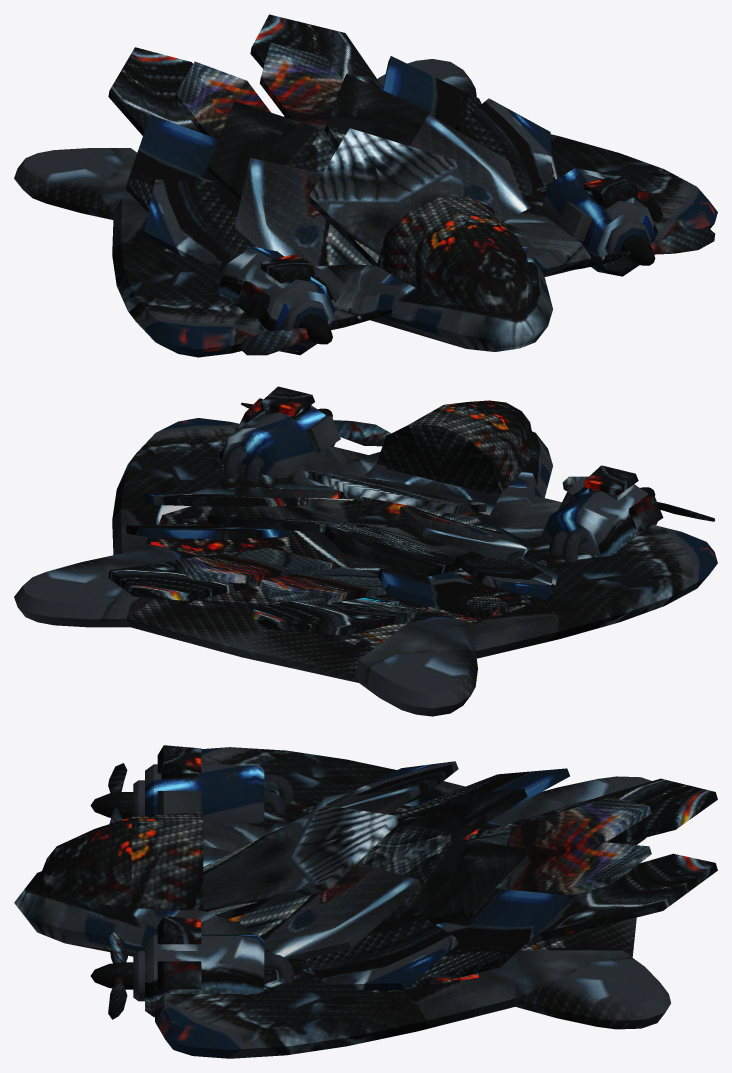
3 renders of one model, top to bottom at view 1: azimuth 30°, elevation 25°; view 2: azimuth 150°, elevation 25°; view 3: azimuth 270°, elevation 25°, orthographic. The views are drawn at different scales.
Visible parts, largest first — view 1: plane_11_4h45min_, plane_11_4h45min__003, plane_11_4h45min__005, plane_11_4h45min__009, plane_11_4h45min__006, plane_11_4h45min__011, plane_11_4h45min__004, plane_11_4h45min__008, plane_11_4h45min__007, plane_11_4h45min__010, plane_11_4h45min__002, plane_11_4h45min__001; view 2: plane_11_4h45min_, plane_11_4h45min__006, plane_11_4h45min__011, plane_11_4h45min__010, plane_11_4h45min__005, plane_11_4h45min__003, plane_11_4h45min__009, plane_11_4h45min__008, plane_11_4h45min__007, plane_11_4h45min__002, plane_11_4h45min__004, plane_11_4h45min__001; view 3: plane_11_4h45min_, plane_11_4h45min__003, plane_11_4h45min__004, plane_11_4h45min__007, plane_11_4h45min__008, plane_11_4h45min__010, plane_11_4h45min__006, plane_11_4h45min__011, plane_11_4h45min__009, plane_11_4h45min__002, plane_11_4h45min__005, plane_11_4h45min__001.
Part boxes in pixels (x1=…): plane_11_4h45min_: x1=14, y1=14, x2=717, y2=357; plane_11_4h45min__003: x1=308, y1=128, x2=467, y2=265; plane_11_4h45min__005: x1=234, y1=158, x2=372, y2=266; plane_11_4h45min__009: x1=143, y1=179, x2=250, y2=263; plane_11_4h45min__006: x1=207, y1=101, x2=334, y2=199; plane_11_4h45min__011: x1=259, y1=43, x2=342, y2=152; plane_11_4h45min__004: x1=410, y1=114, x2=526, y2=221; plane_11_4h45min__008: x1=455, y1=98, x2=552, y2=201; plane_11_4h45min__007: x1=324, y1=73, x2=430, y2=149; plane_11_4h45min__010: x1=174, y1=61, x2=270, y2=139; plane_11_4h45min__002: x1=563, y1=228, x2=715, y2=271; plane_11_4h45min__001: x1=240, y1=309, x2=392, y2=355; plane_11_4h45min_: x1=14, y1=386, x2=717, y2=716; plane_11_4h45min__006: x1=324, y1=526, x2=459, y2=576; plane_11_4h45min__011: x1=174, y1=548, x2=332, y2=583; plane_11_4h45min__010: x1=259, y1=567, x2=386, y2=604; plane_11_4h45min__005: x1=398, y1=506, x2=526, y2=560; plane_11_4h45min__003: x1=308, y1=470, x2=486, y2=513; plane_11_4h45min__009: x1=455, y1=551, x2=552, y2=600; plane_11_4h45min__008: x1=143, y1=494, x2=307, y2=506; plane_11_4h45min__007: x1=207, y1=515, x2=388, y2=532; plane_11_4h45min__002: x1=241, y1=402, x2=391, y2=446; plane_11_4h45min__004: x1=234, y1=487, x2=372, y2=499; plane_11_4h45min__001: x1=562, y1=476, x2=714, y2=521; plane_11_4h45min_: x1=14, y1=745, x2=717, y2=1058; plane_11_4h45min__003: x1=203, y1=805, x2=398, y2=919; plane_11_4h45min__004: x1=238, y1=862, x2=421, y2=959; plane_11_4h45min__007: x1=377, y1=838, x2=527, y2=924; plane_11_4h45min__008: x1=302, y1=914, x2=458, y2=990; plane_11_4h45min__010: x1=469, y1=797, x2=651, y2=868; plane_11_4h45min__006: x1=358, y1=789, x2=527, y2=867; plane_11_4h45min__011: x1=495, y1=842, x2=651, y2=896; plane_11_4h45min__009: x1=326, y1=761, x2=458, y2=805; plane_11_4h45min__002: x1=90, y1=932, x2=133, y2=1019; plane_11_4h45min__005: x1=276, y1=785, x2=421, y2=829; plane_11_4h45min__001: x1=90, y1=763, x2=133, y2=823.
Bounding box in the file's own units: 185 × 34.27 × 187.
